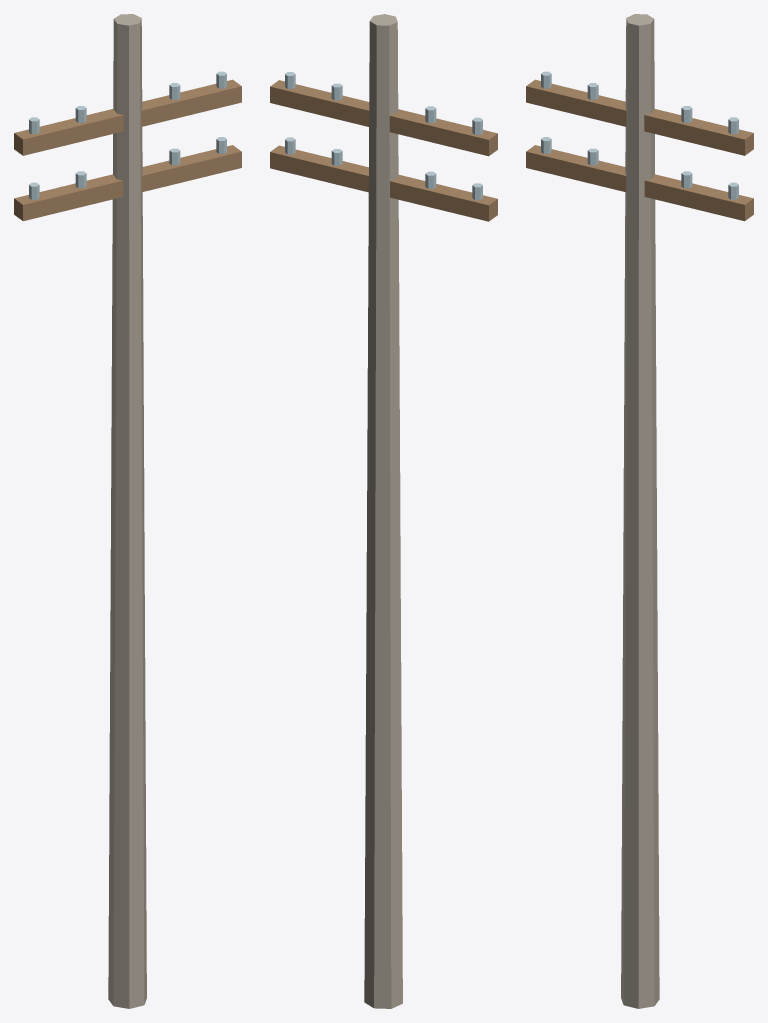
The model's file is SM_Telegraph_Pole.glb.
3 renders of one model, left to right at view 1: azimuth 30°, elevation 25°; view 2: azimuth 150°, elevation 25°; view 3: azimuth 330°, elevation 25°, orthographic.
Parts seen in each view (by area): view 1: SM_Telegraph_Pole; view 2: SM_Telegraph_Pole; view 3: SM_Telegraph_Pole.
Boxes of the visible parts, x1,y1,x2,y2 form: SM_Telegraph_Pole: [14, 14, 241, 1008]; SM_Telegraph_Pole: [270, 14, 497, 1008]; SM_Telegraph_Pole: [526, 14, 753, 1008].
Size of the model in its own units: 1.4 by 6 by 0.2091.
